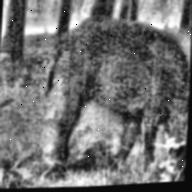boar: (41, 0, 192, 183)
